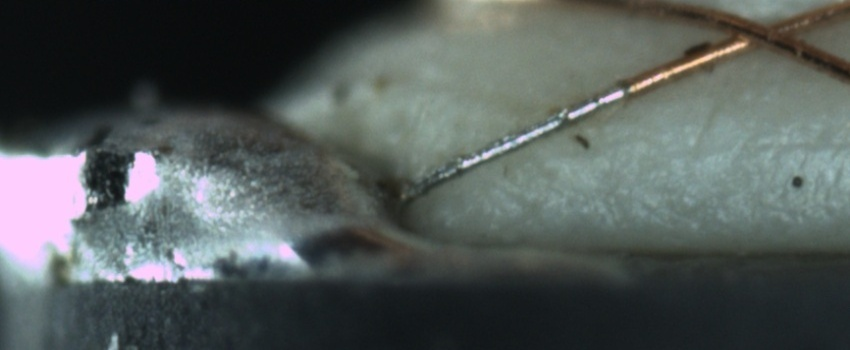CL: (712, 6, 809, 60)
DL: (675, 113, 849, 174)
TS: (392, 86, 627, 206)
